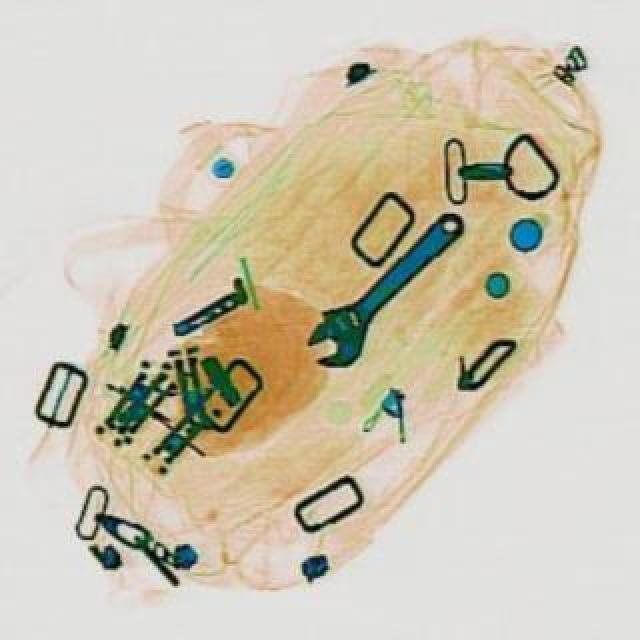scissors: (288, 200, 484, 384)
